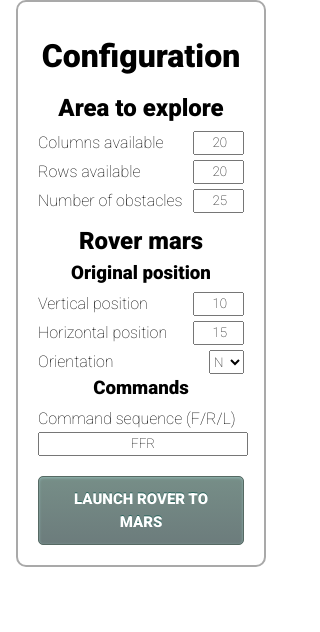
Scenario: Given a RoverExpeditionComponent › When is invoked and the vertical position is bigger than cols value › Then should render an error
Replace the text in the number field with id "yOrigin" with "100" at (218,304), box [193,292,244,316]
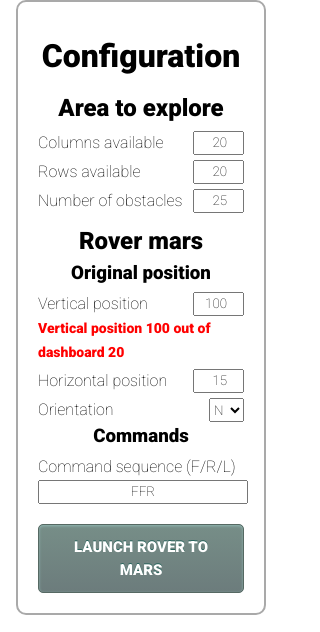
Expected: the text with class "input-container__element--error" reads "Vertical position 100 out of dashboard 20", [38,320,210,360]
